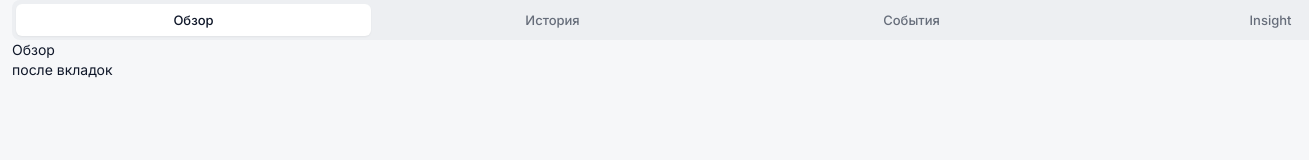
Tabs › клик выбирает вкладку
The image size is (1309, 160).
What coordinates should you click on to do the following:
click the button "События"
I would click on:
 (912, 20)
Its box is [734,4,1089,36].
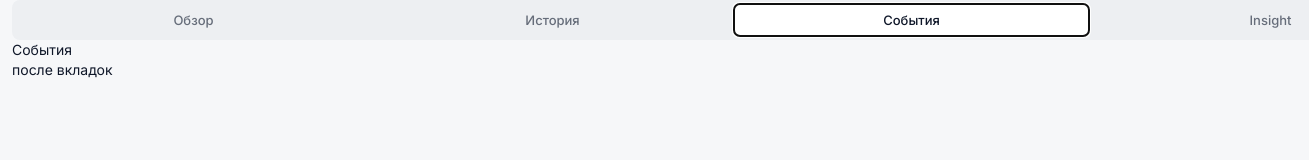
Check: the text with test id "current" reads "События", box [12,41,72,58]
